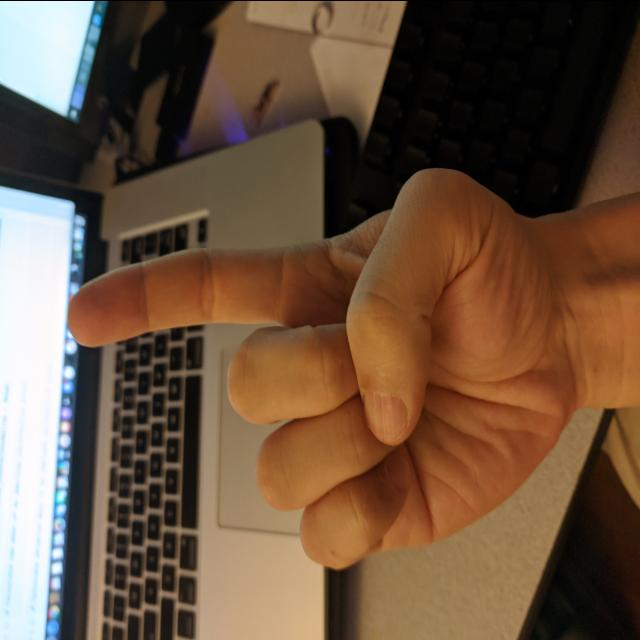D: (58, 158, 588, 581)
